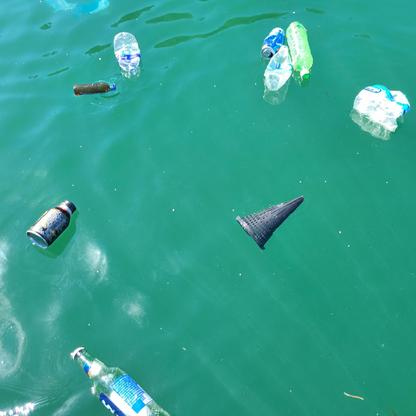can: (262, 26, 283, 57)
plastic bottle: (285, 21, 313, 80), (263, 46, 293, 92), (115, 30, 142, 76)
